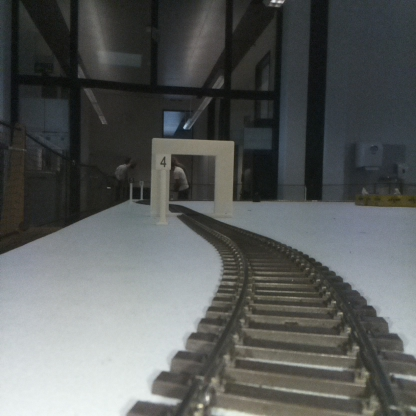white-info-4: (156, 153, 170, 224)
